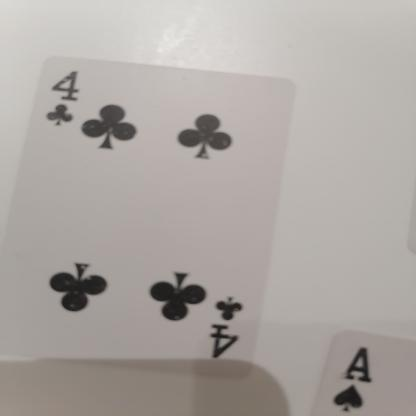4C: (25, 64, 98, 134)
